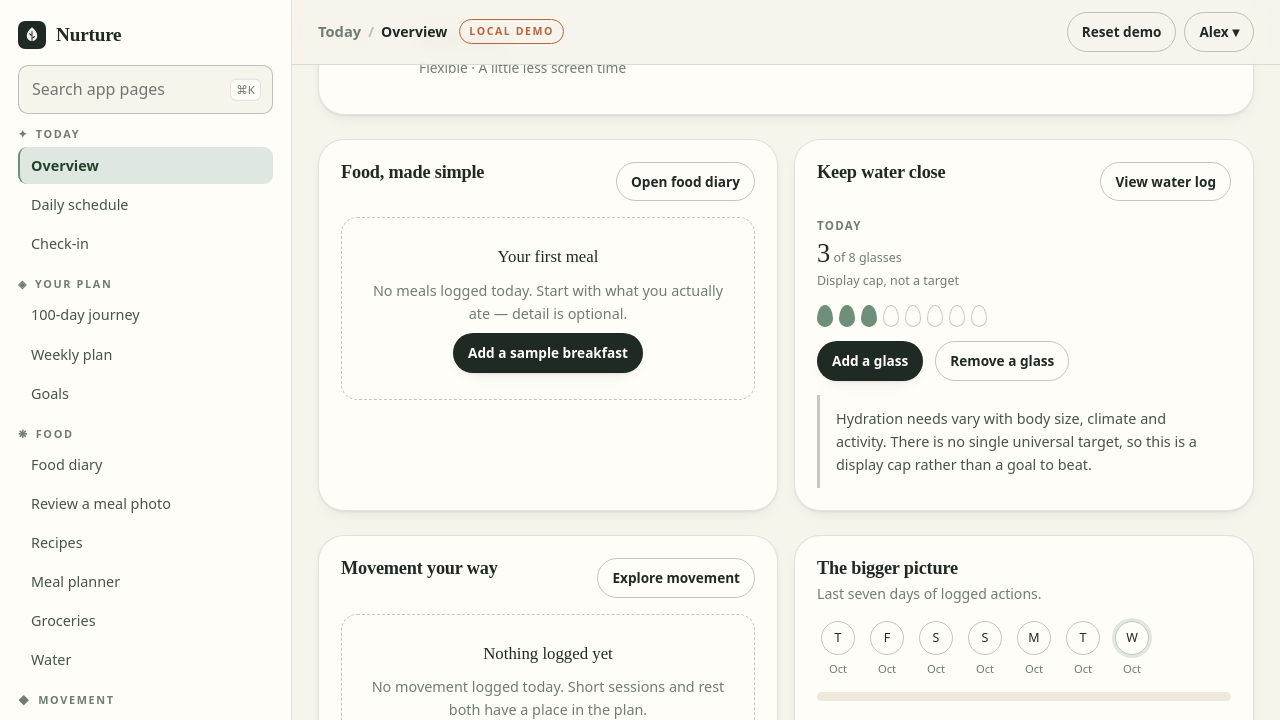
Test: shared demo state › carries a logged action from one workspace into another
(page scrolled)
Expected: the picture named "3 of 8 demo glasses" is shown, [817,305,987,327]
Click the button "Add a glass" at (870, 361), box [817,341,923,381]
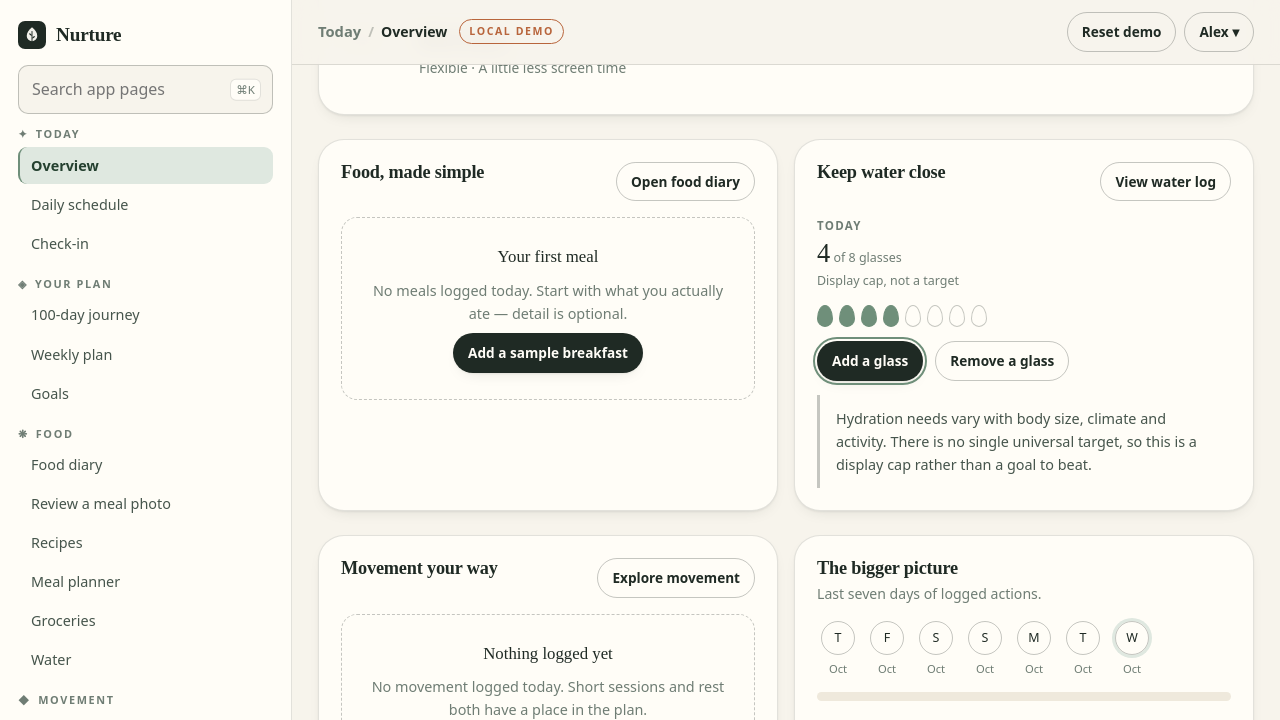
Expected: the picture named "4 of 8 demo glasses" is shown, [817,305,987,327]
Navigate away and back: the change is still there.
Click the link "Water" at (51, 660), box [31,650,71,669]
(page scrolled)
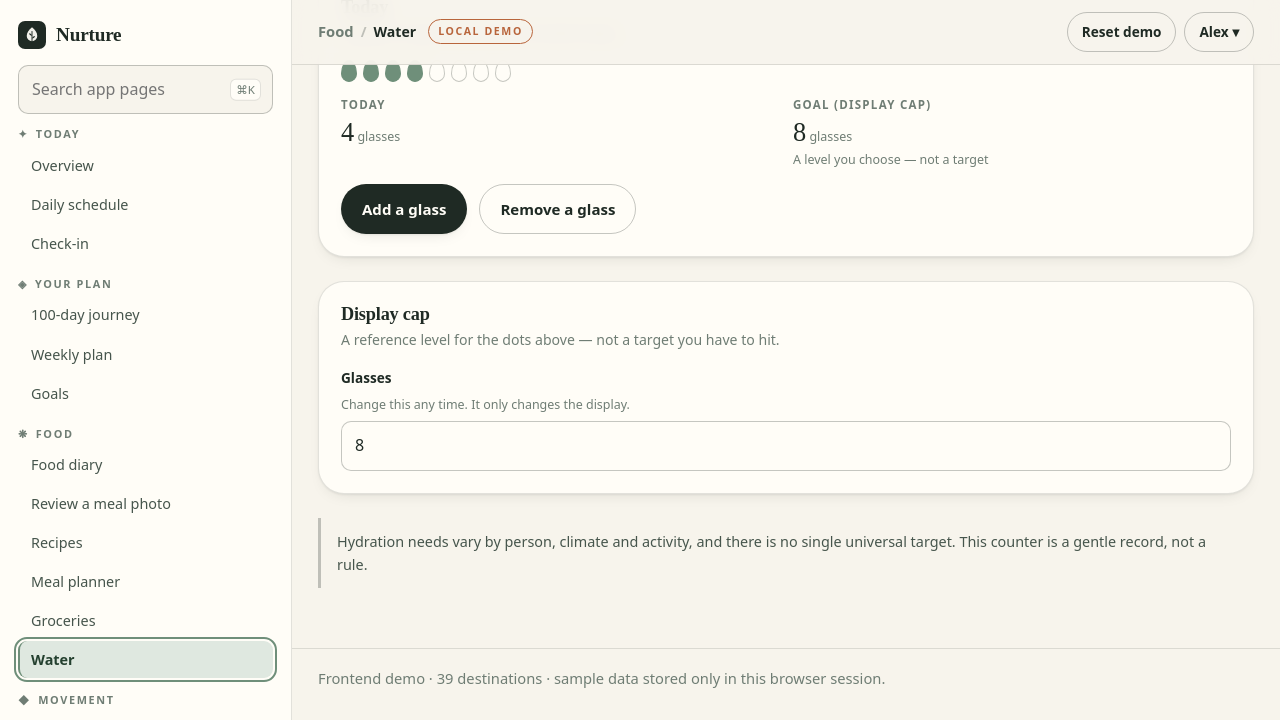
Click the link "Overview" at (62, 165), box [31,156,94,175]
(page scrolled)
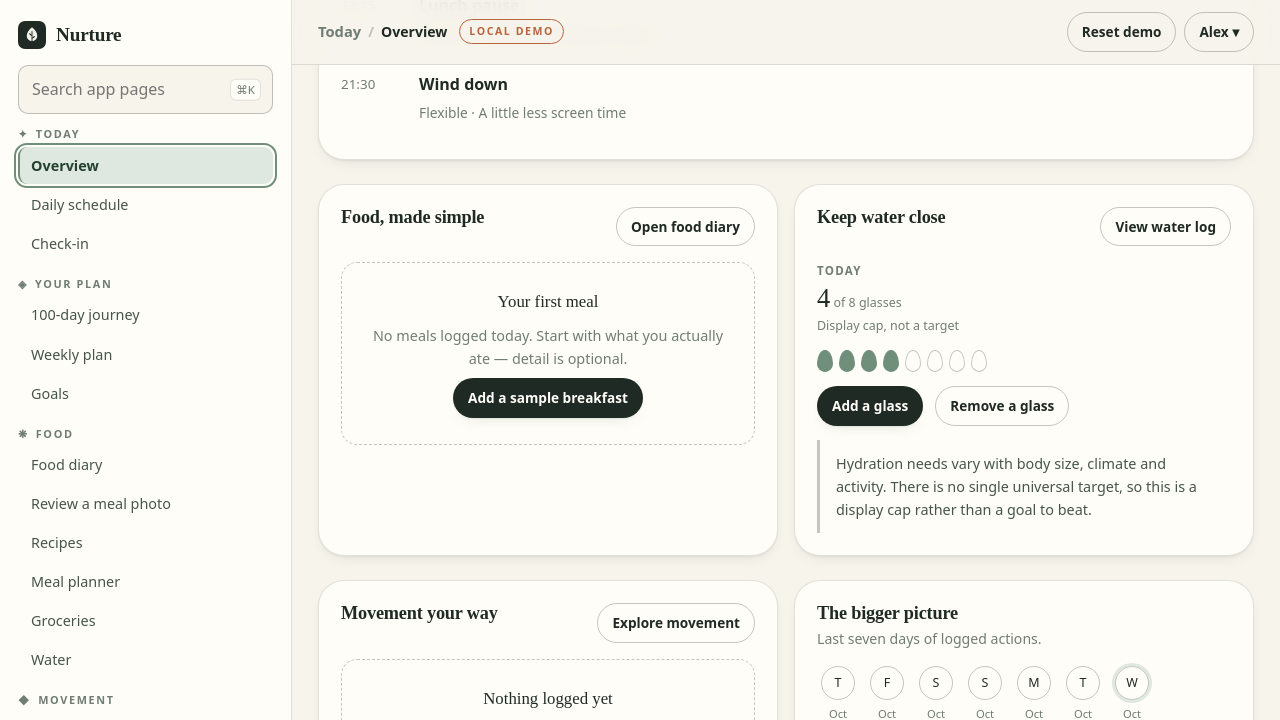
Expected: the picture named "4 of 8 demo glasses" is shown, [817,350,987,372]
